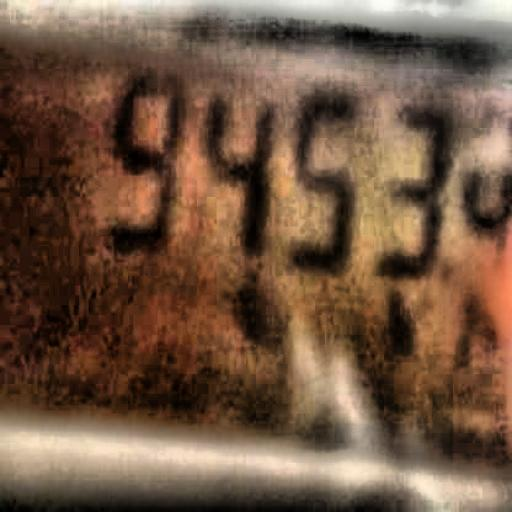DISPLAY_REGION: (3, 0, 511, 490)
